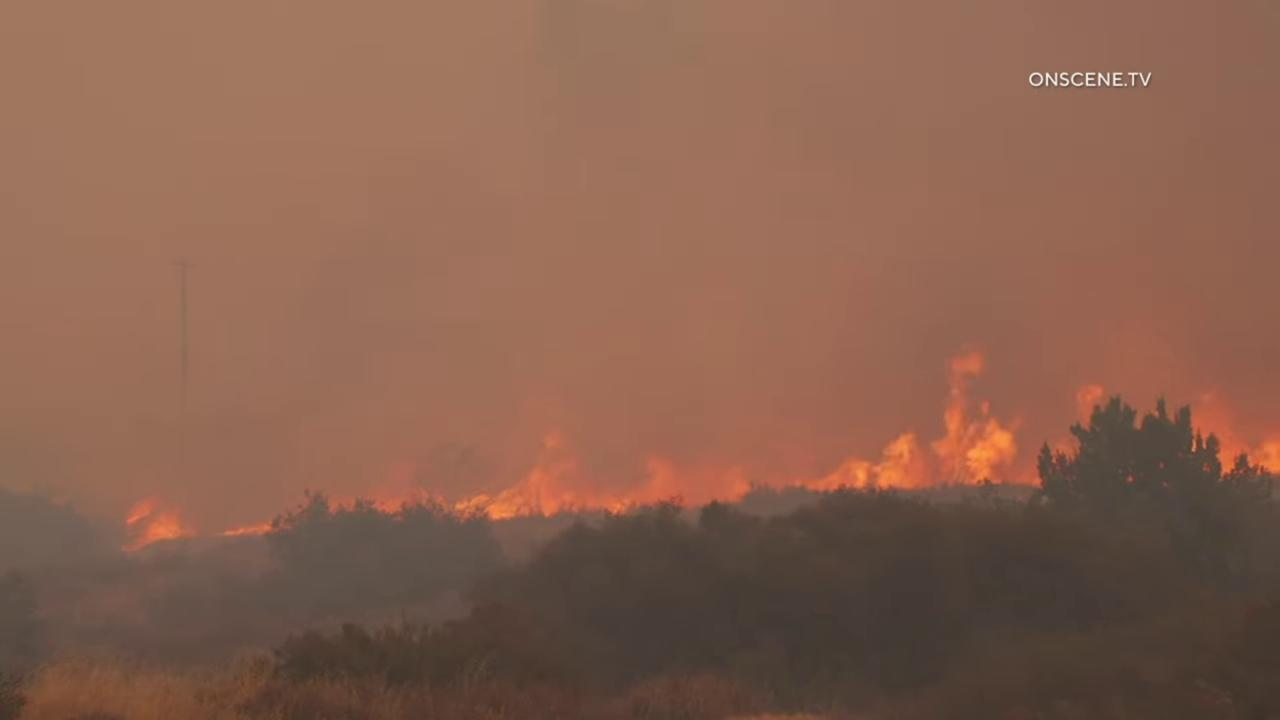fire: (308, 342, 1280, 521), (113, 488, 199, 558), (222, 513, 292, 537)
smoke: (0, 0, 1280, 672)
